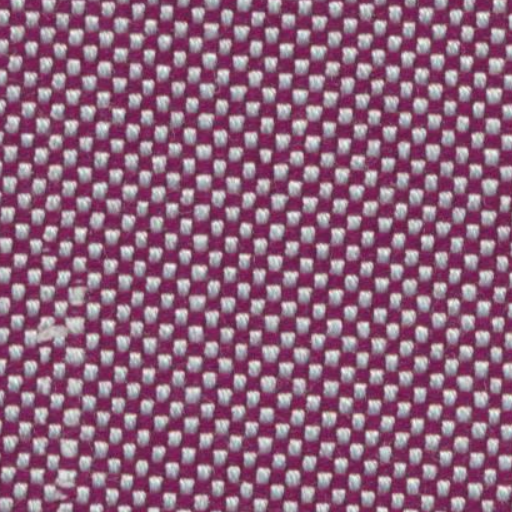TuoSha: (46, 38, 112, 502)
